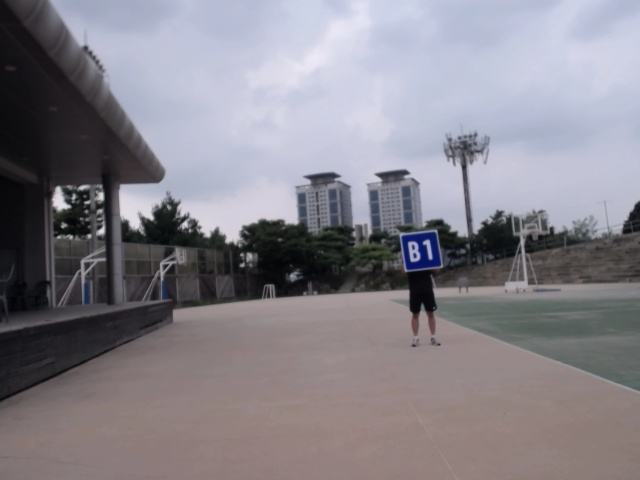delivery_b1: (400, 230, 443, 272)
